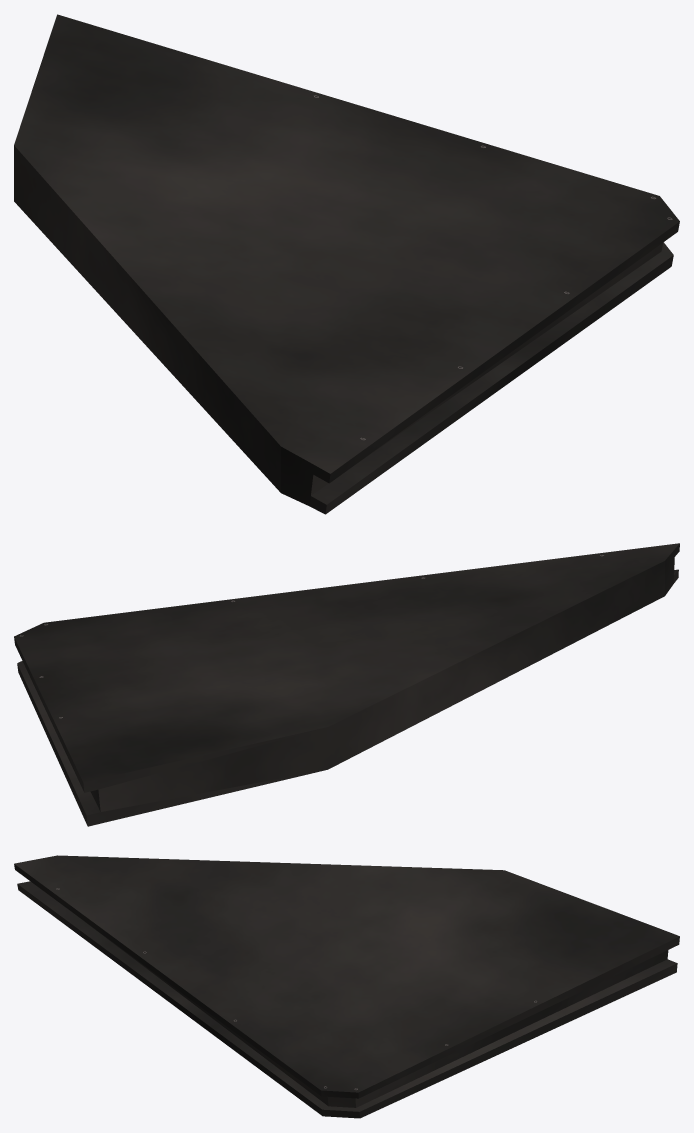
File: e_port_overwing_d_model.fbx
3 renders of one model, top to bottom at view 1: azimuth 30°, elevation 25°; view 2: azimuth 150°, elevation 25°; view 3: azimuth 270°, elevation 25°, orthographic. The views are drawn at different scales.
Visible parts, largest first — view 1: polySurface9; view 2: polySurface9; view 3: polySurface9.
Part boxes in pixels (x1,y1,x2,y2): polySurface9: (14,14,679,514); polySurface9: (14,543,679,826); polySurface9: (14,855,679,1118).
Size of the model in its own units: 5380 by 1172 by 7982.
Materials: 2 (1 with a texture image).
